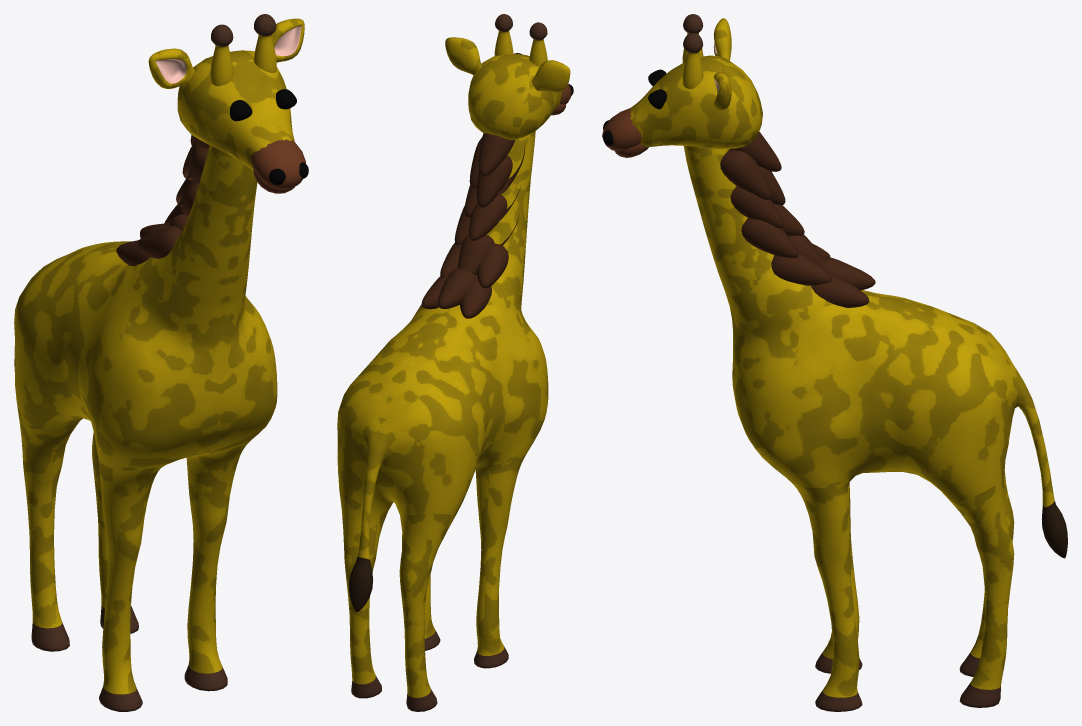
The model's file is Giraffe.glb.
3 views of the same model, side by side, from view 1: azimuth 30°, elevation 25°; view 2: azimuth 150°, elevation 25°; view 3: azimuth 270°, elevation 25° (orthographic). The views are drawn at different scales.
Visible parts, largest first — view 1: Giraffe, Eyes_Giraffes; view 2: Giraffe; view 3: Giraffe.
Boxes of the visible parts, box(x1,y1,x2,y2) form: Giraffe: box(14, 14, 308, 711); Eyes_Giraffes: box(230, 89, 296, 121); Giraffe: box(337, 14, 573, 711); Giraffe: box(602, 14, 1067, 711).
Size of the model in its own units: 1.14 by 4.72 by 3.01.
Materials: 10 (1 with a texture image).
